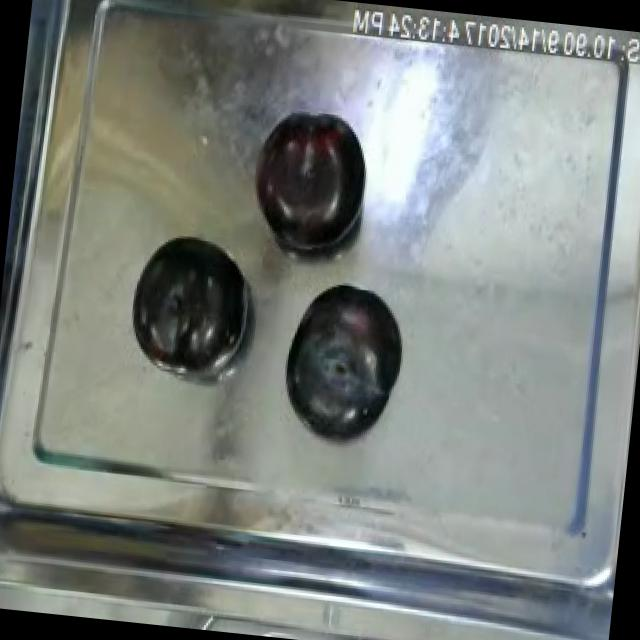Fruit: (276, 275, 414, 443), (122, 228, 258, 379), (244, 102, 374, 255)
